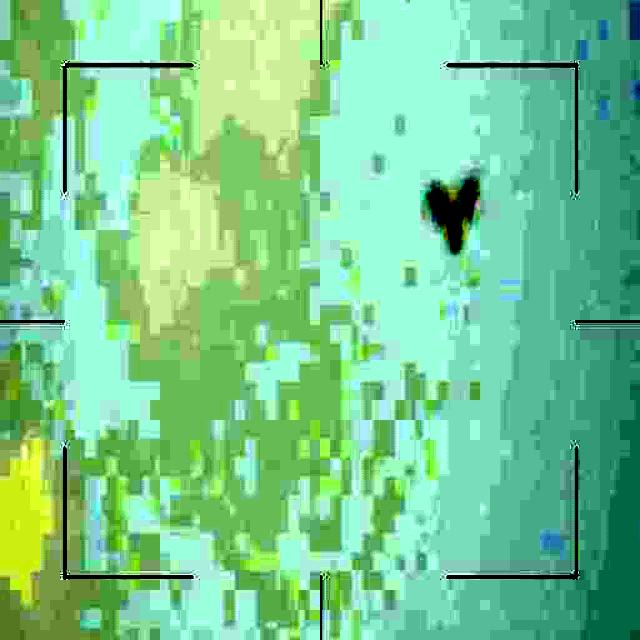bird: (429, 179, 482, 252)
